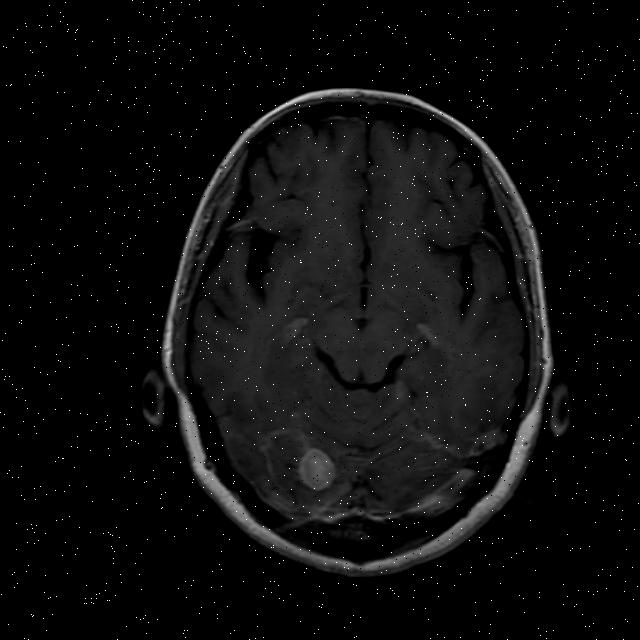Meningioma: (294, 446, 340, 495)
